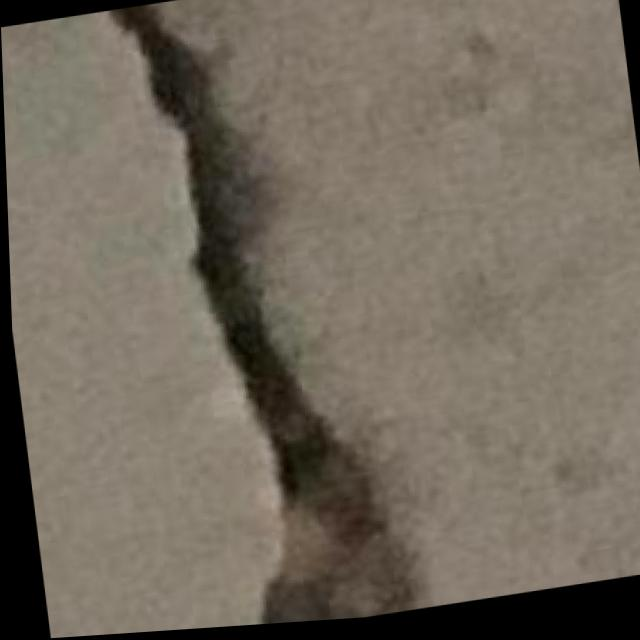Crack: (58, 0, 433, 637)
